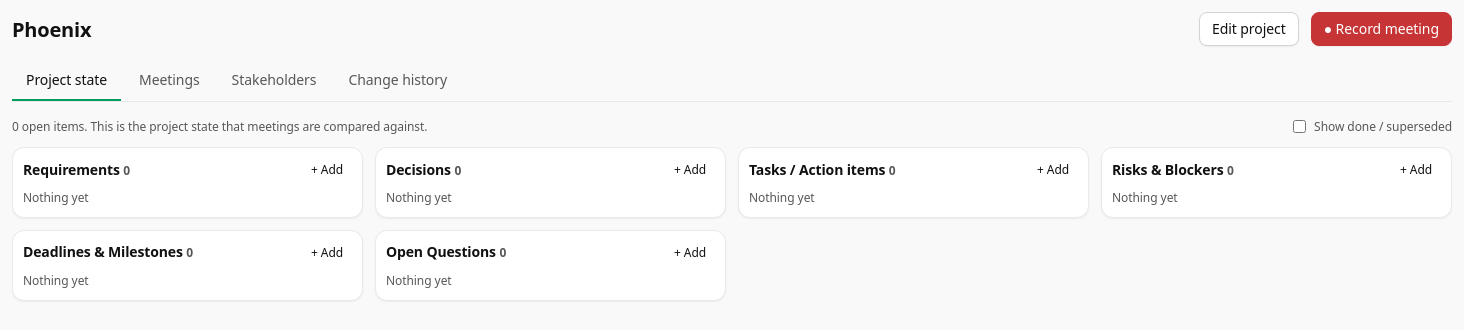
Test: project page › shows why removing a stakeholder failed
Step 1. Click the button "Stakeholders" → {"x": 274, "y": 81}, box [218, 62, 330, 101]
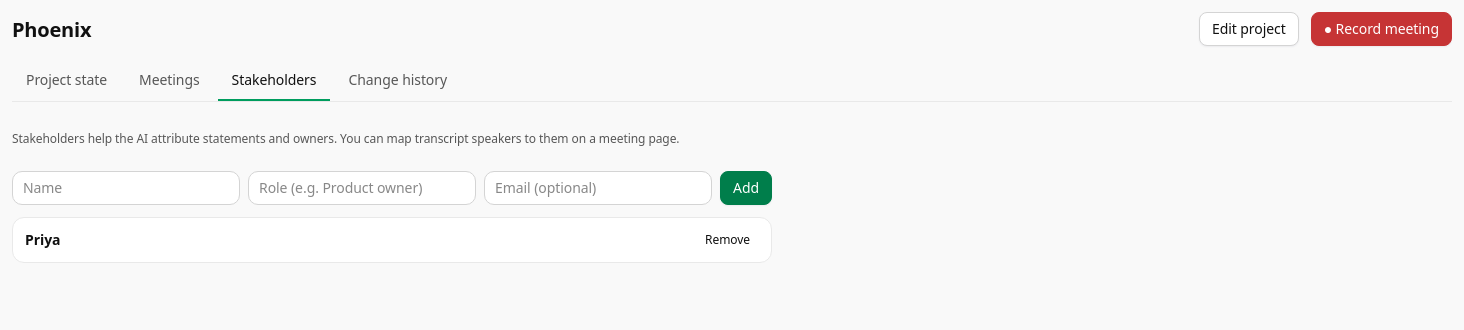
Step 2. Click the button "Remove" → {"x": 728, "y": 240}, box [696, 228, 759, 252]
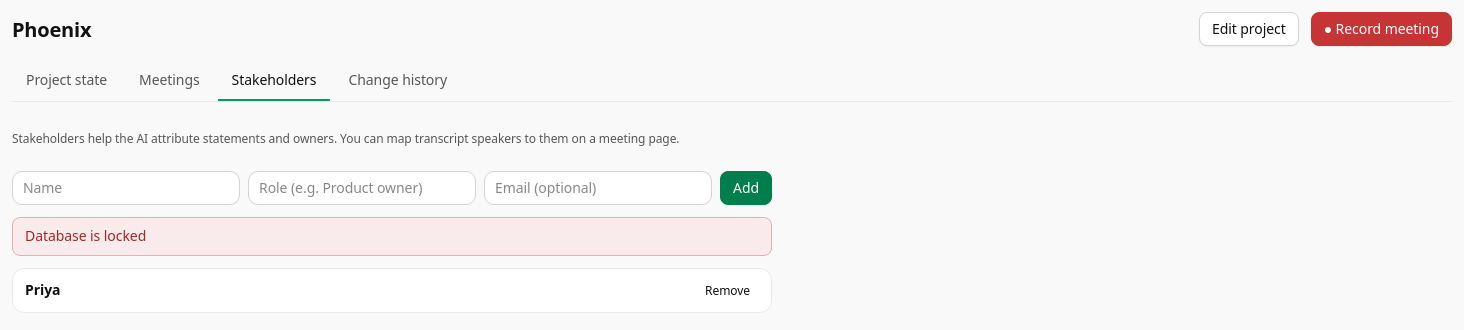
Expected: the text "Database is locked" is shown, [12, 217, 772, 256]
